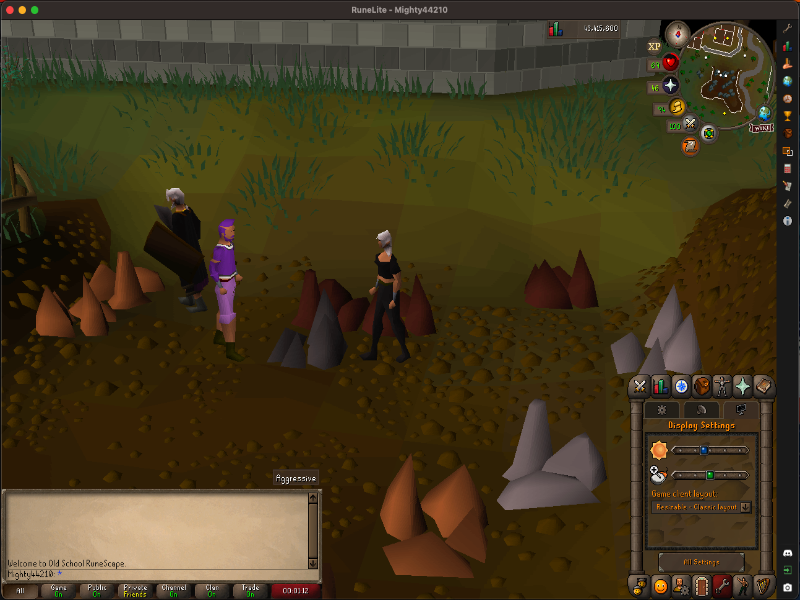iron: (528, 261, 594, 305), (374, 290, 431, 332), (304, 276, 353, 304)
